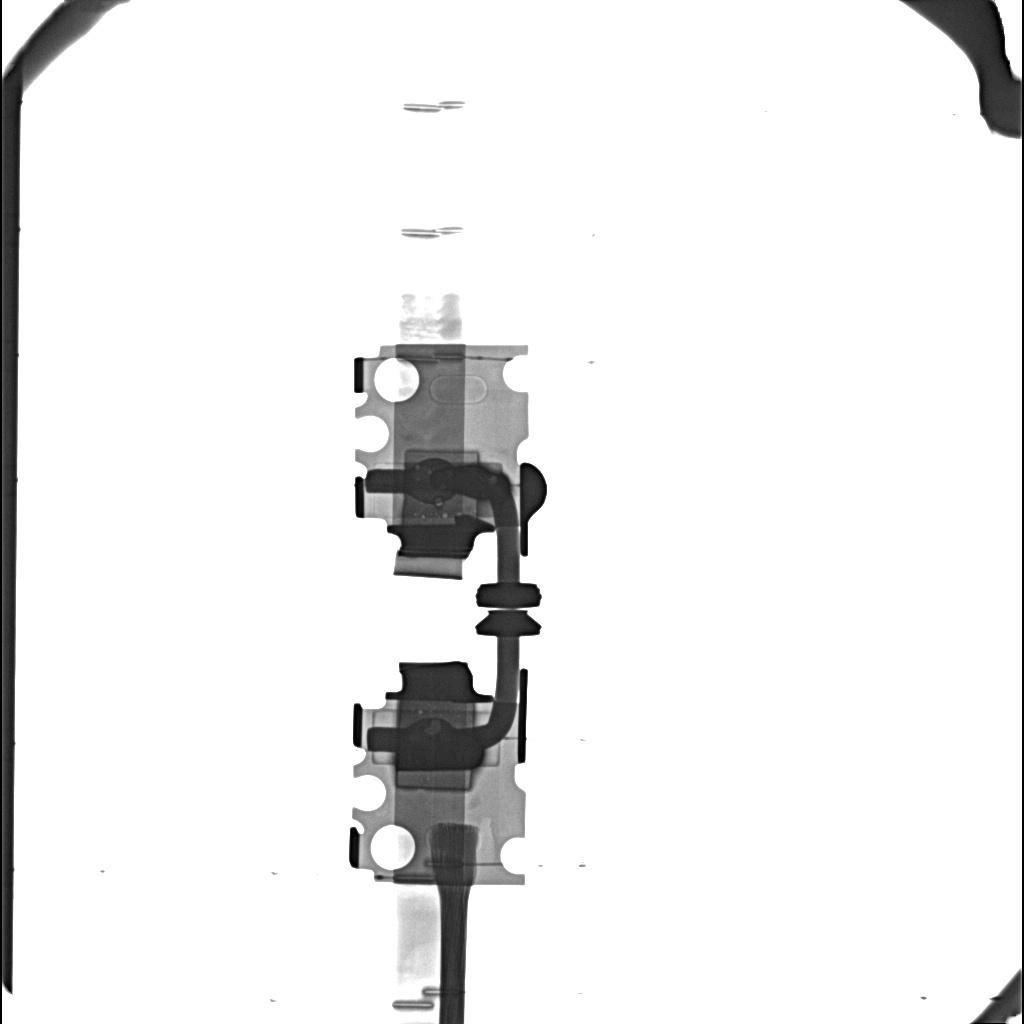PX: (395, 771, 473, 791), (404, 449, 479, 466)
SX: (398, 720, 482, 769), (432, 465, 509, 499)
